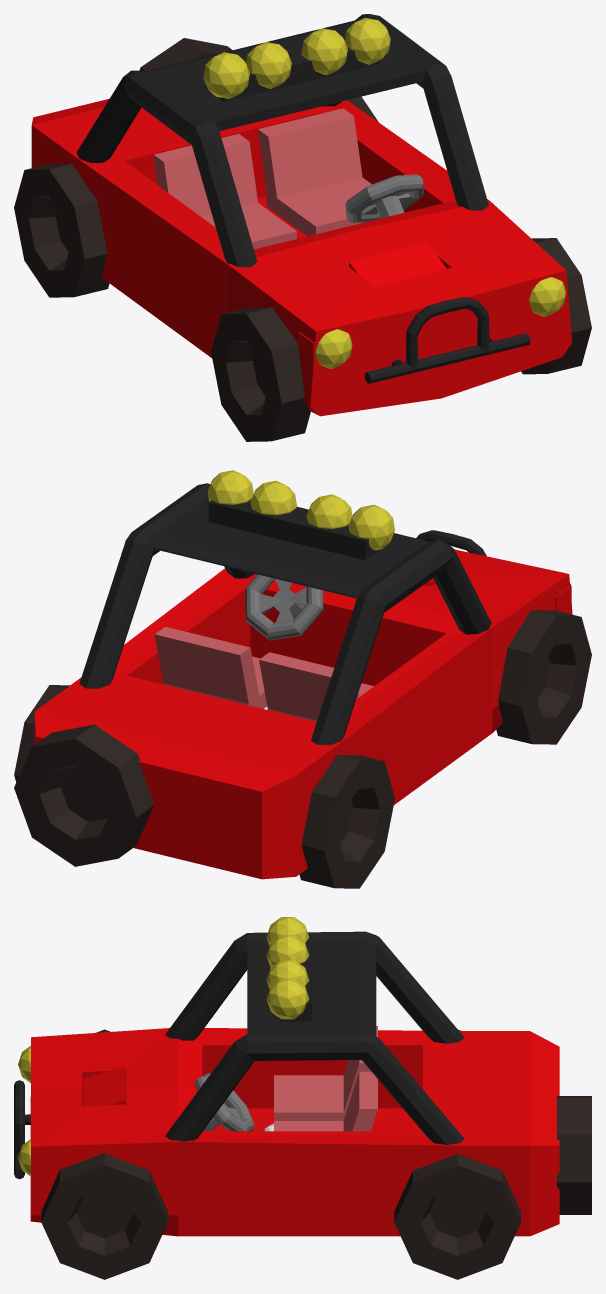
File: VOITURE.fbx
The picture shows the model from 3 angles, top to bottom: view 1: azimuth 30°, elevation 25°; view 2: azimuth 150°, elevation 25°; view 3: azimuth 270°, elevation 25°; orthographic projection. The views are drawn at different scales.
Visible parts, largest first — view 1: Cube, Cylinder, Cylinder.005, Cube.002, Cylinder.004, Cube.003, Cylinder.001, Cylinder.007, Torus.001, Icosphere.005, Icosphere.004, Icosphere.003 (+4 smaller); view 2: Cube, Cylinder, Cylinder.008, Cylinder.005, Cylinder.004, Cube.002, Cube.003, Torus.001, Icosphere.005, Icosphere.004, Icosphere.003, Icosphere.002 (+2 smaller); view 3: Cube, Cylinder, Cylinder.007, Cylinder.006, Cylinder.008, Cube.003, Cube.002, Icosphere.004, Torus.001, Cylinder.001, Icosphere.002, Icosphere.003 (+1 smaller).
Part boxes in pixels (left/top/right/bottom): Cube: left=31, top=98, right=572, bottom=416; Cylinder: left=76, top=14, right=488, bottom=267; Cylinder.005: left=211, top=307, right=310, bottom=441; Cube.002: left=258, top=108, right=371, bottom=236; Cylinder.004: left=14, top=164, right=109, bottom=297; Cube.003: left=153, top=134, right=296, bottom=249; Cylinder.001: left=364, top=297, right=530, bottom=383; Cylinder.007: left=521, top=238, right=591, bottom=374; Torus.001: left=345, top=174, right=423, bottom=222; Icosphere.005: left=203, top=52, right=249, bottom=98; Icosphere.004: left=344, top=17, right=390, bottom=64; Icosphere.003: left=301, top=28, right=347, bottom=75; Cube: left=34, top=549, right=572, bottom=879; Cylinder: left=79, top=483, right=491, bottom=745; Cylinder.008: left=14, top=724, right=154, bottom=866; Cylinder.005: left=496, top=610, right=591, bottom=744; Cylinder.004: left=299, top=755, right=394, bottom=888; Cube.002: left=154, top=626, right=266, bottom=708; Cube.003: left=259, top=652, right=373, bottom=721; Torus.001: left=245, top=574, right=323, bottom=640; Icosphere.005: left=348, top=504, right=394, bottom=550; Icosphere.004: left=207, top=470, right=253, bottom=504; Icosphere.003: left=250, top=480, right=296, bottom=515; Icosphere.002: left=306, top=494, right=352, bottom=528; Cube: left=30, top=1028, right=559, bottom=1236; Cylinder: left=165, top=931, right=464, bottom=1144; Cylinder.007: left=41, top=1153, right=167, bottom=1279; Cylinder.006: left=394, top=1154, right=520, bottom=1279; Cylinder.008: left=557, top=1096, right=591, bottom=1214; Cube.003: left=274, top=1026, right=377, bottom=1120; Cube.002: left=274, top=1071, right=377, bottom=1131; Icosphere.004: left=266, top=978, right=308, bottom=1019; Torus.001: left=195, top=1073, right=254, bottom=1131; Cylinder.001: left=14, top=1080, right=30, bottom=1179; Icosphere.002: left=266, top=935, right=309, bottom=967; Icosphere.003: left=266, top=960, right=309, bottom=988.
Size of the model in its own units: 328 by 296 by 590.
